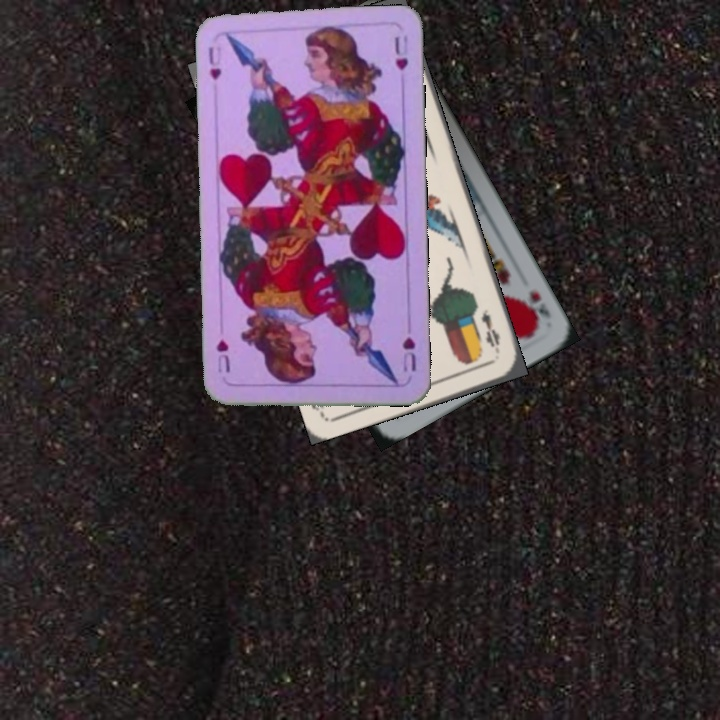EO: (477, 305, 503, 357)
HK: (518, 287, 554, 331)
HU: (398, 333, 418, 374), (204, 42, 224, 82)
